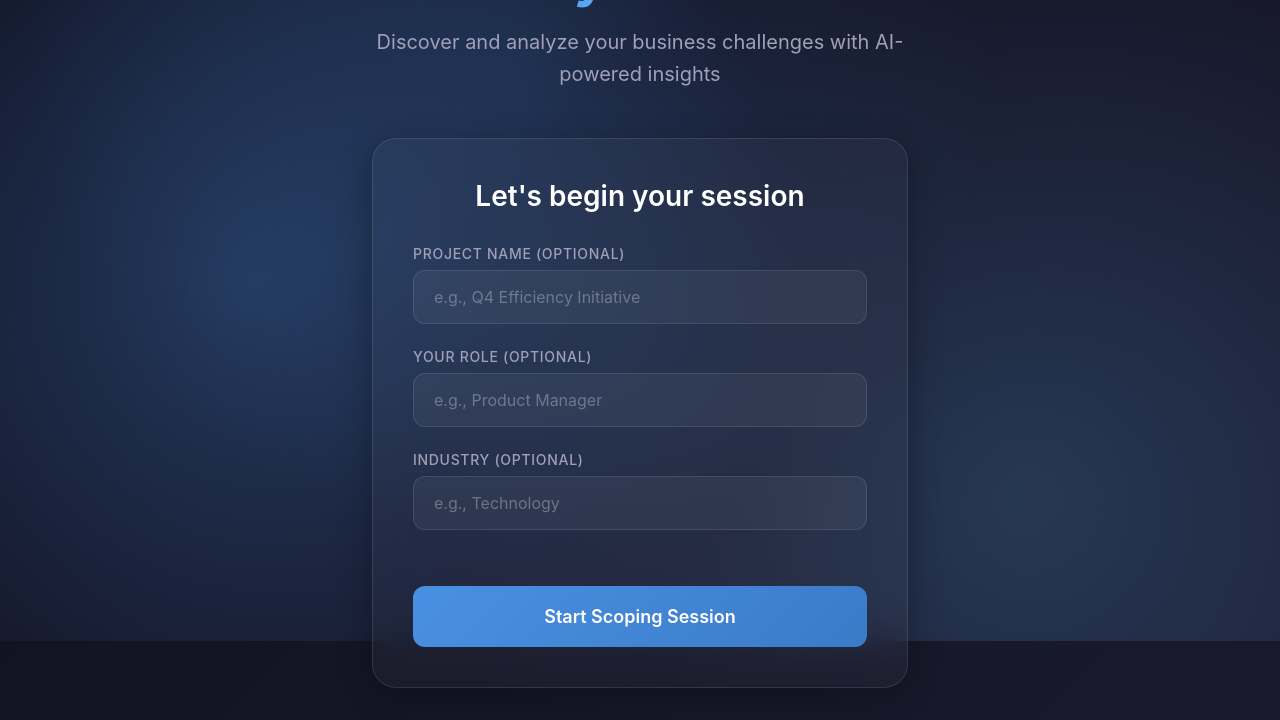
Test: App › should transition to chat interface after successful session start
The image size is (1280, 720).
(page scrolled)
Step 1. Click the button "Start Scoping Session" → (640, 616), box left=413, top=586, right=867, bottom=647
(page scrolled)
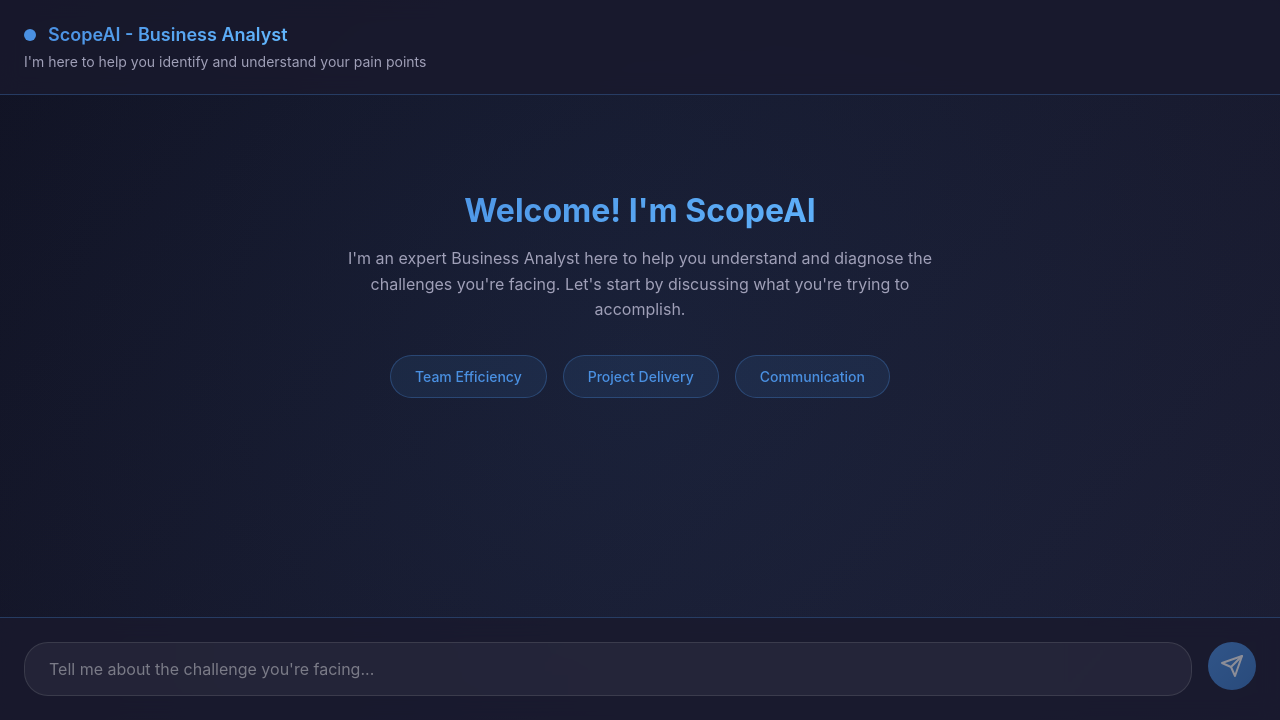
expect the text "ScopeAI - Business Analyst" is shown: met, box left=48, top=24, right=288, bottom=45
